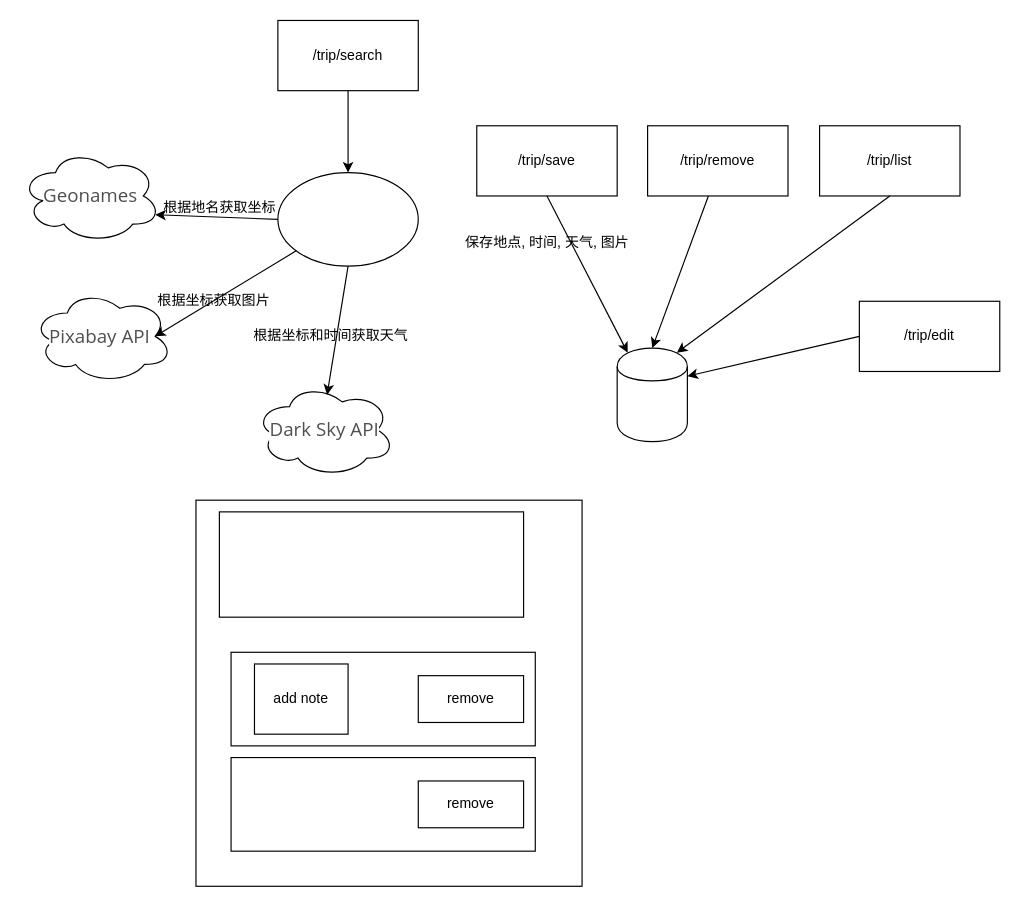
This 1020x907 diagram has some shape labels left out. The box of each missing label's shape, as (x1, y1, x2, y2) in pixels:
search save: (218, 511, 524, 617)
travel1: (230, 756, 535, 851)
travel2: (230, 651, 535, 746)
